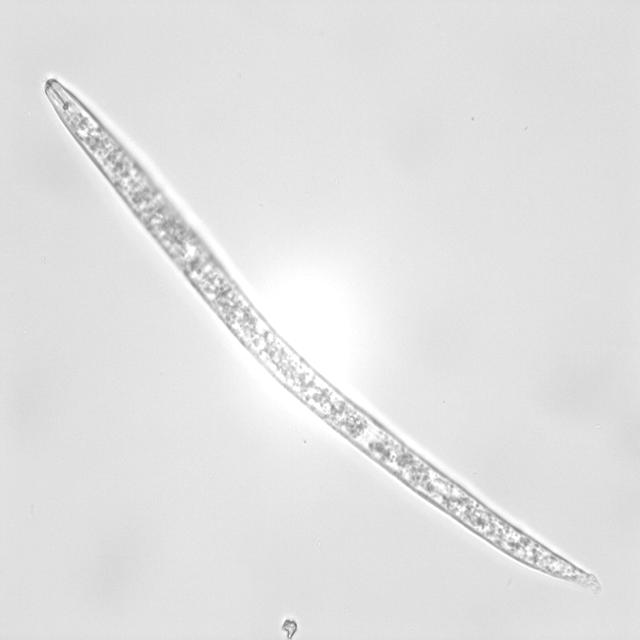Radopholus: (31, 70, 611, 600)
